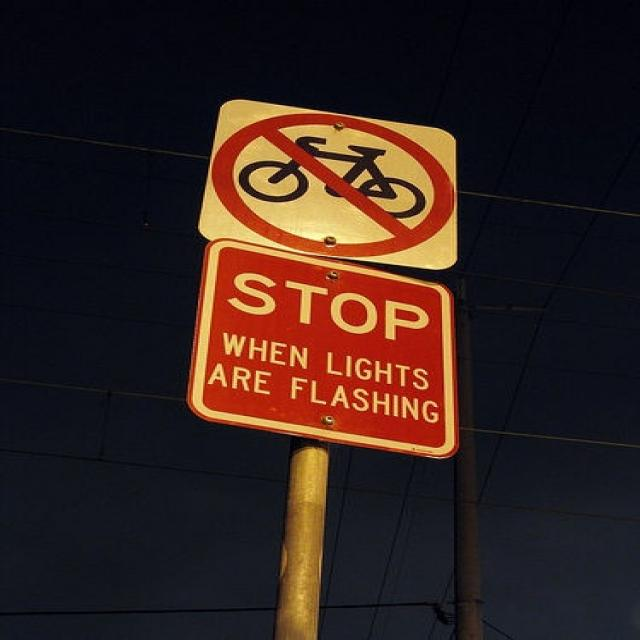bicycle: (237, 131, 425, 215)
pole: (432, 275, 496, 639), (273, 436, 338, 638)
